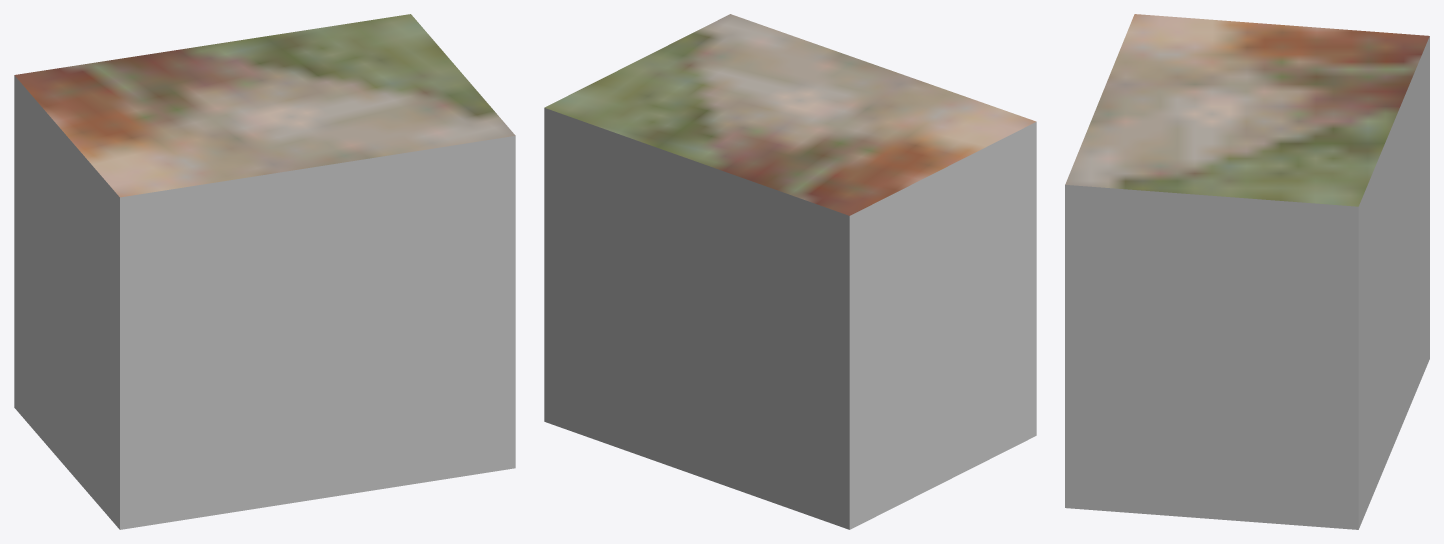
File: DEBW_0010007THXM.gltf
3 views of the same model, side by side, from view 1: azimuth 30°, elevation 25°; view 2: azimuth 150°, elevation 25°; view 3: azimuth 270°, elevation 25° (orthographic). The views are drawn at different scales.
Visible parts, largest first — view 1: Z_UP; view 2: Z_UP; view 3: Z_UP.
Part boxes in pixels (box(x1,y1,x2,y2)): Z_UP: box(14, 14, 515, 529); Z_UP: box(544, 14, 1036, 529); Z_UP: box(1065, 14, 1429, 529).
Bounding box in the file's own units: 5.19 × 4.06 × 4.15.
2 materials, 1 textured.
